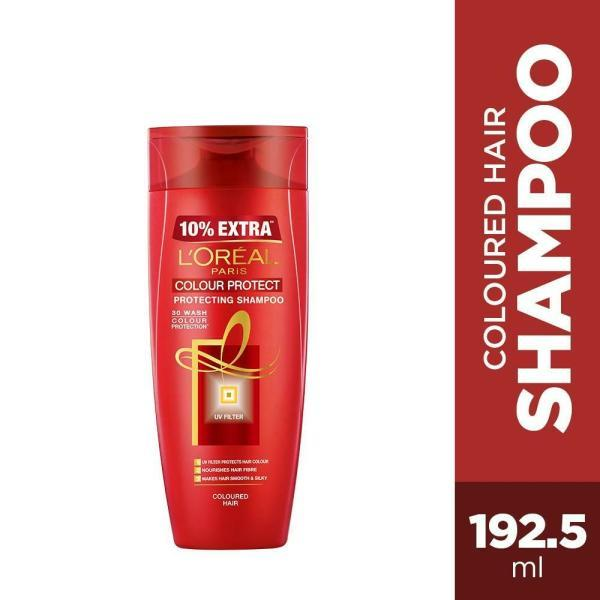Loreal: (147, 127, 310, 548)
